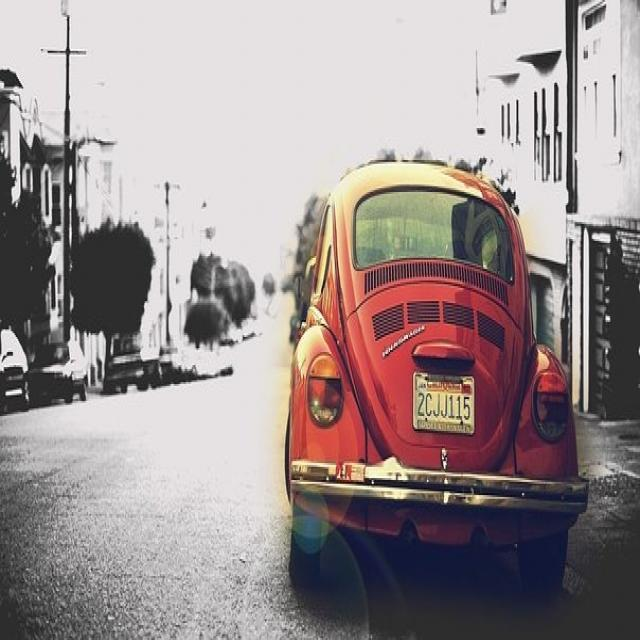cars: (284, 160, 586, 598)
